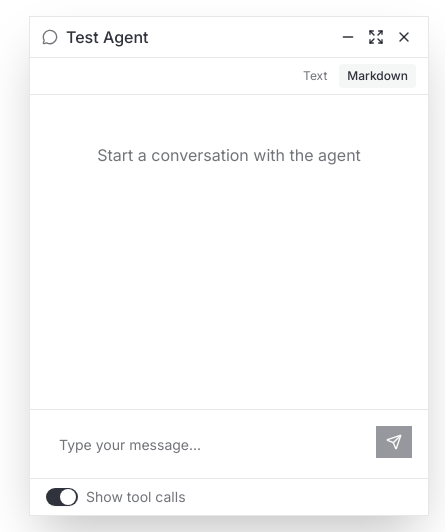
Test: FloatingChat › streaming enabled › should stop processing when stream completes
Type "Test" into the field with placeholder "Type your message..." at (207, 444), box [46,426,368,462]
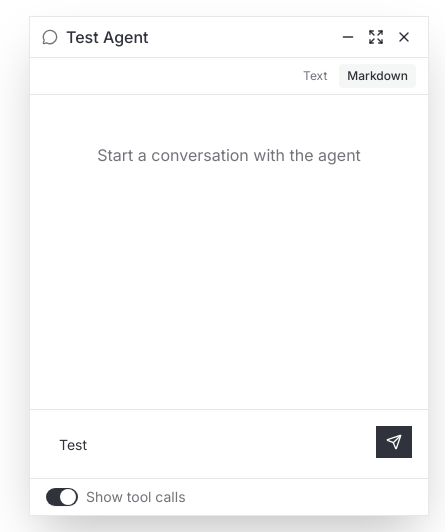
Click the button named "send" at (394, 442), box [376,426,412,458]
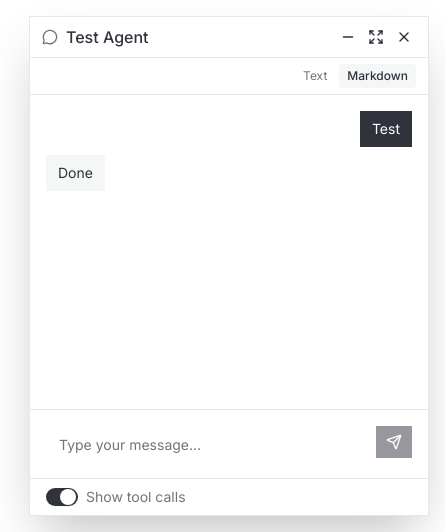
Expected: the field with placeholder "Type your message..." is enabled, [46,426,368,462]
Now the text "Done" is shown, box [58,163,93,183]
